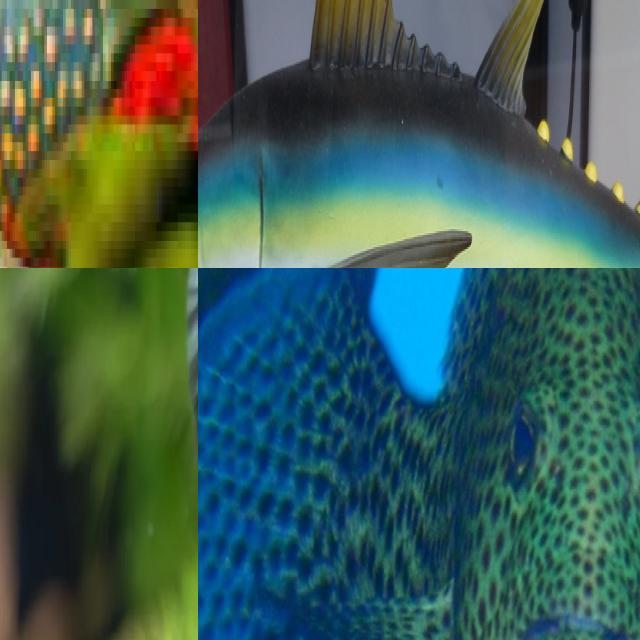fish: (198, 268, 640, 640), (198, 0, 640, 268), (0, 0, 198, 268), (90, 268, 198, 473)
